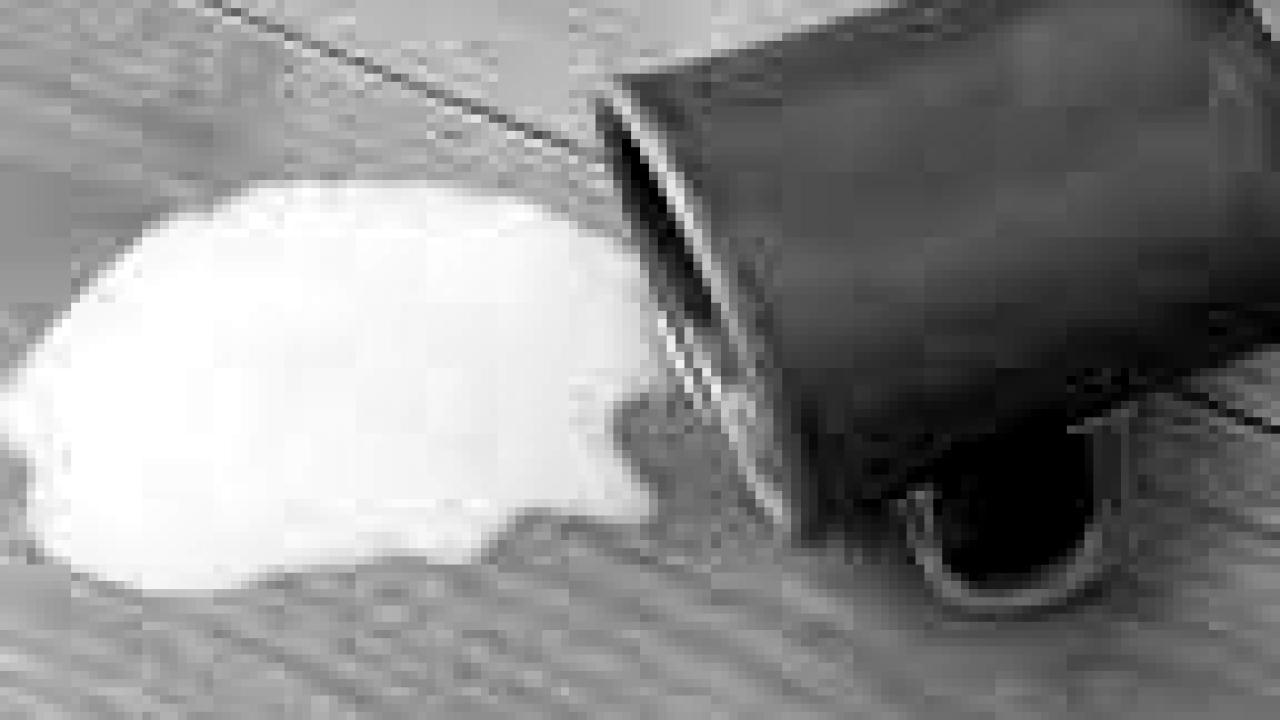drinks Stains: (0, 107, 587, 688)
